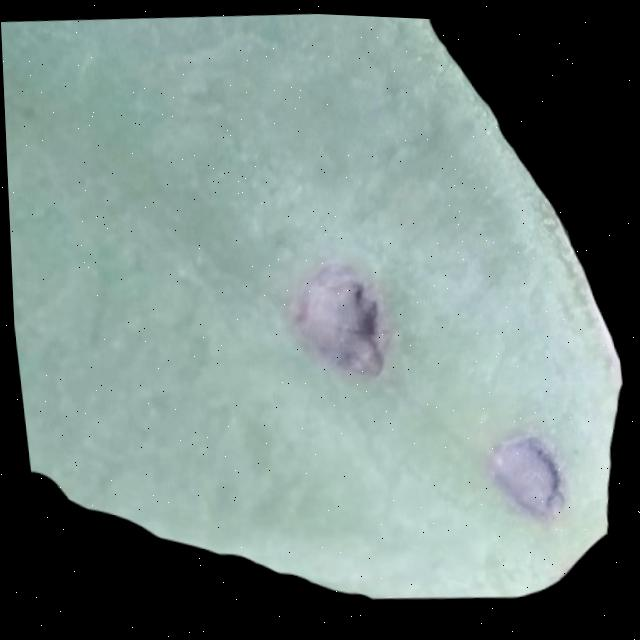mite: (280, 247, 569, 524), (451, 406, 591, 534), (346, 278, 380, 333), (348, 278, 366, 301)
sunburn: (1, 11, 640, 612), (280, 255, 396, 381), (479, 423, 569, 520)
